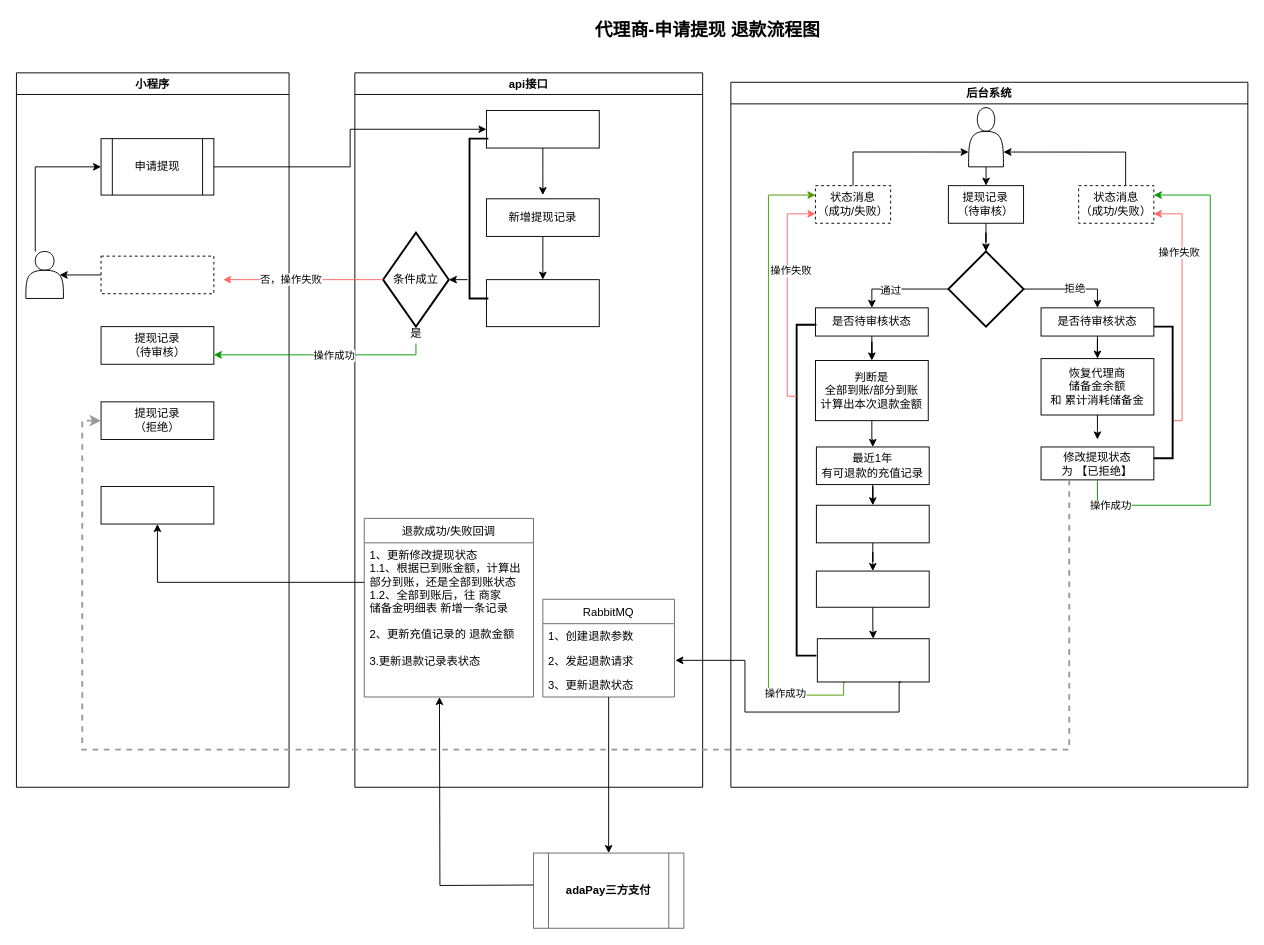
Image size: 1264x945. Some labels were removed from this diagram. Each missing label, with the centre of its shape:
代理商: [44,274]
修改提现状态 为 【已通过】: [872,588]
储备金余额充足: [542,129]
发送消息队列 (通知退款): [872,660]
审核: [985,288]
提现记录 （通过/退款失败）: [157,505]
更新代理商 储备金余额 和 累计消耗储备金: [542,303]
添加汇付退款记录: [872,523]
状态消息: [157,274]
运营 人员: [985,137]
